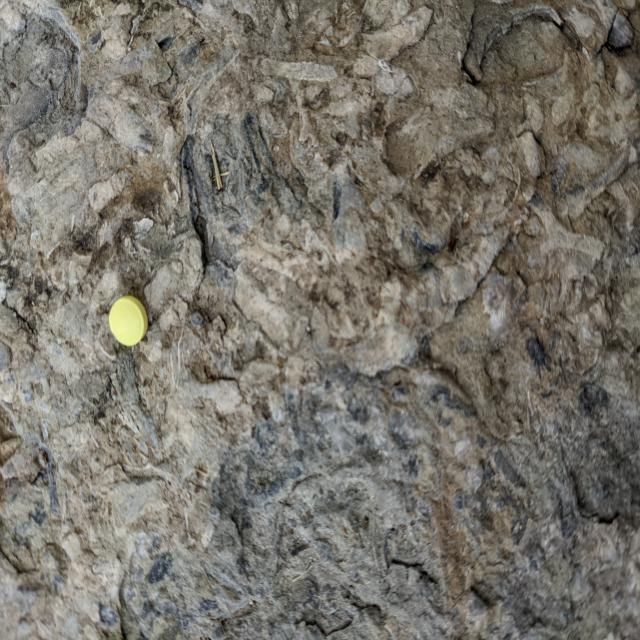non-organic waste: (109, 294, 149, 347)
